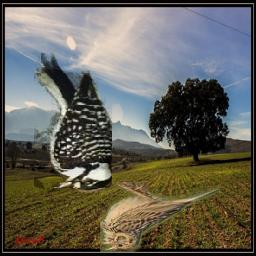Sparrow: (100, 182, 220, 252)
Woodpecker: (34, 53, 112, 193)
